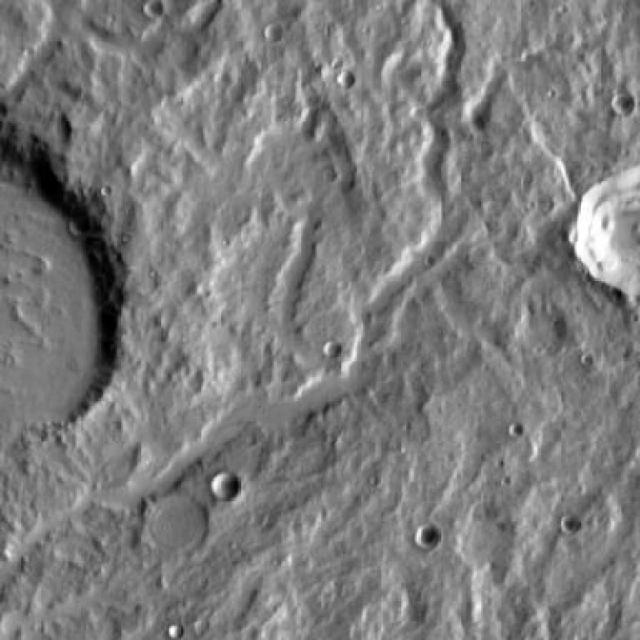crater: (0, 128, 114, 438), (560, 152, 640, 286), (143, 490, 206, 552), (210, 474, 239, 503), (417, 527, 441, 551), (611, 92, 634, 116), (140, 0, 163, 18), (262, 22, 282, 42), (323, 338, 342, 357), (562, 515, 580, 534), (338, 71, 356, 89)
